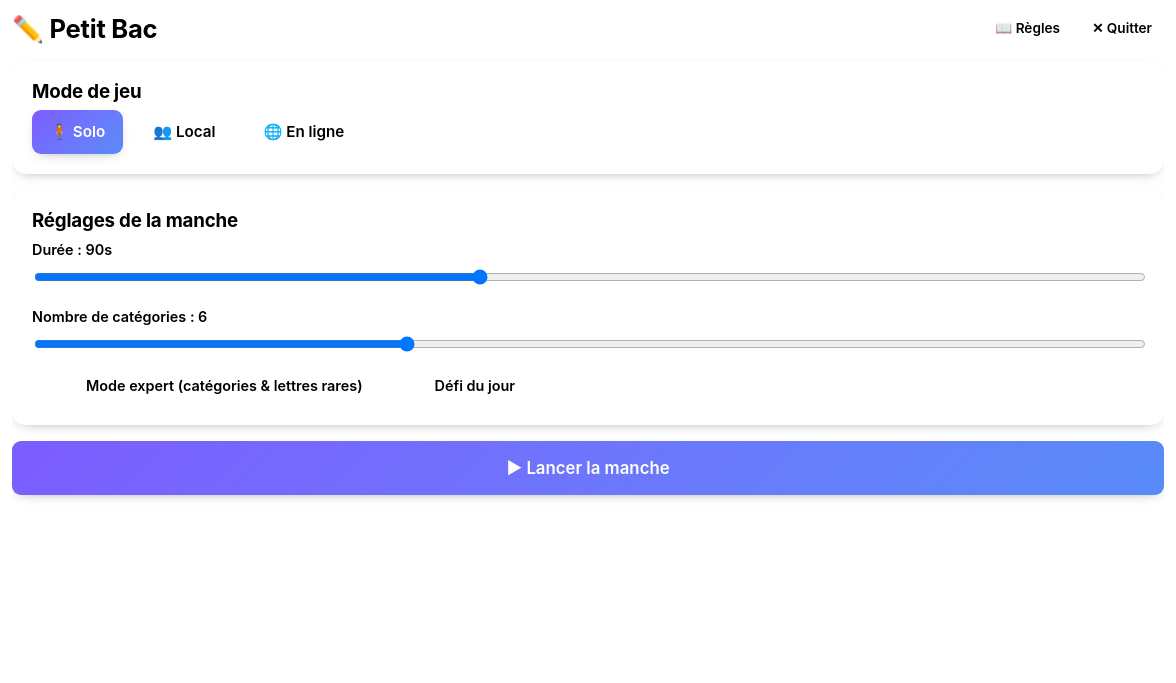
Test: PetitBacGame integration (solo) › switches to local mode and configures players
Click the button "👥 Local". click: click(184, 132)
box: [135,110,234,154]
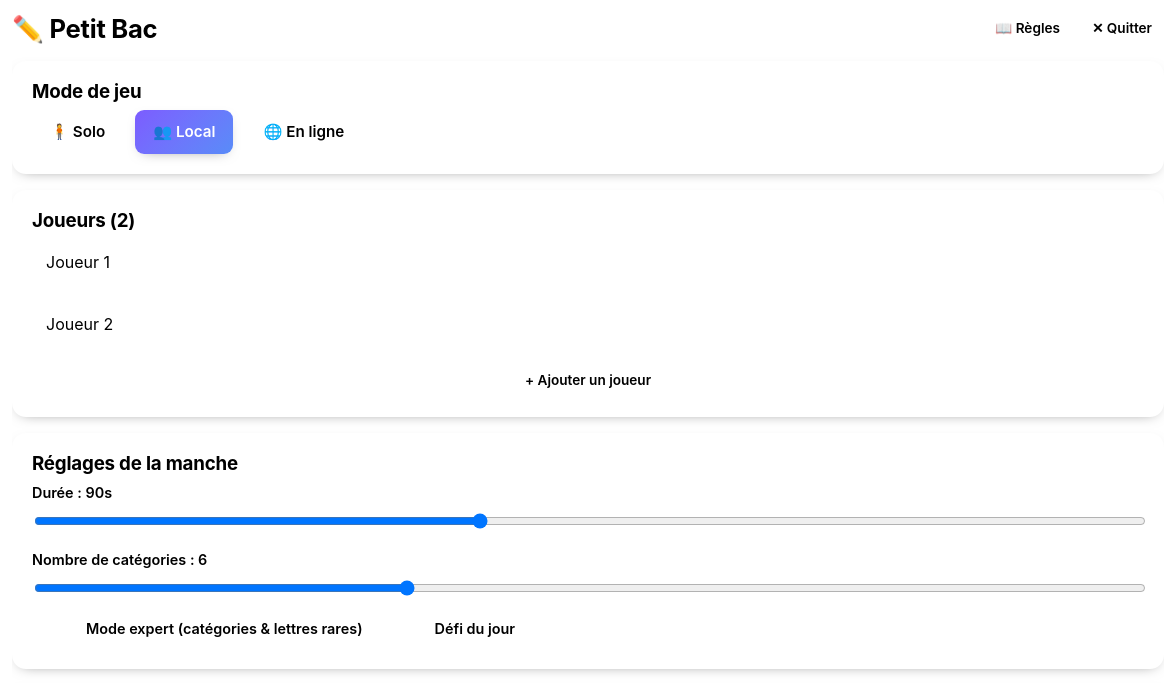
Check: the heading "Joueurs (2)" is shown, box [32,209,135,232]
Click the button "+ Ajouter un joueur". click: click(588, 381)
box: [32,364,1144,397]
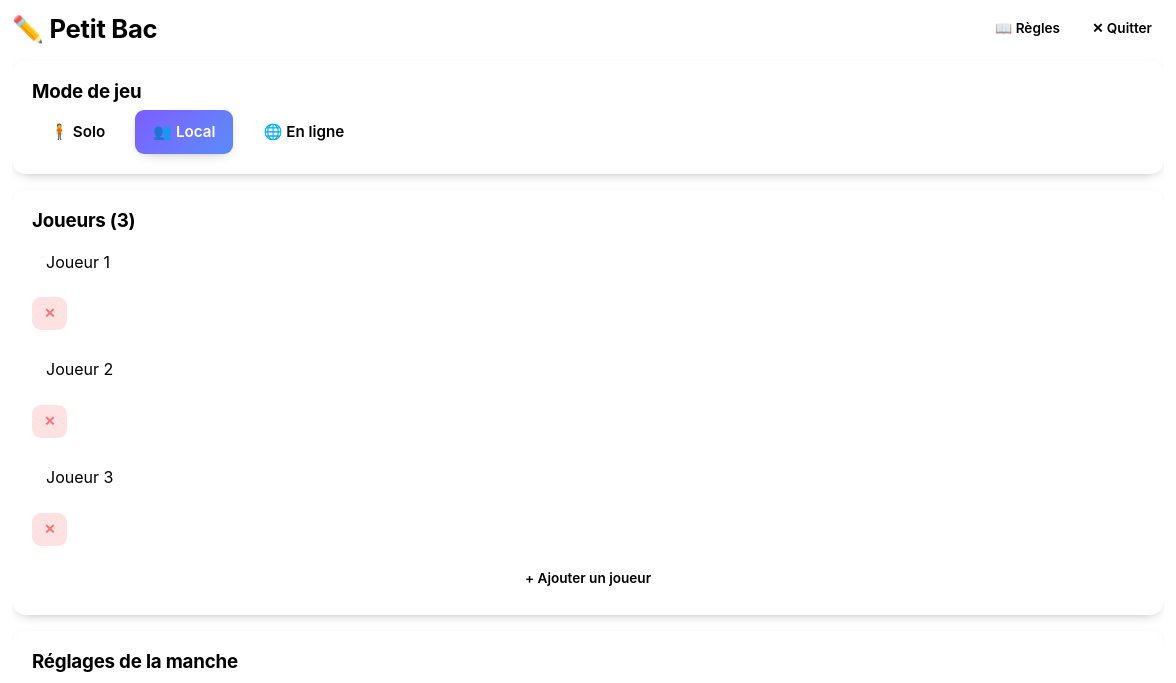
Check: the heading "Joueurs (3)" is shown, box [32,209,136,232]
